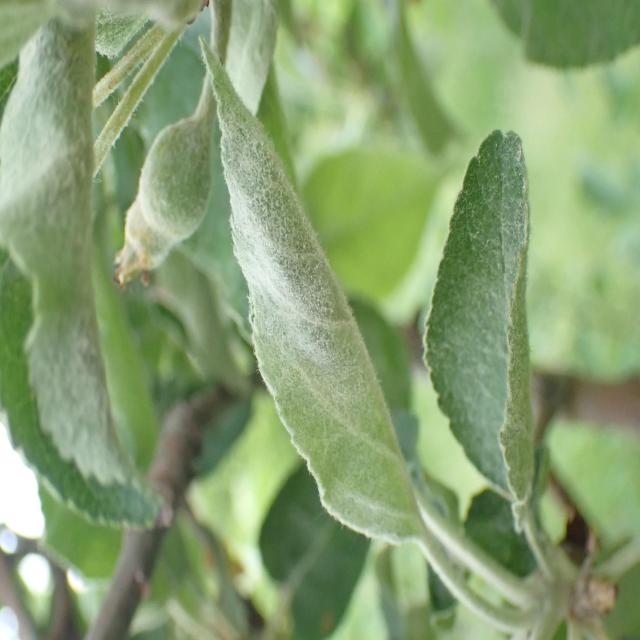Powdery_mildew: (197, 44, 432, 570), (0, 0, 179, 563), (423, 117, 537, 549), (191, 0, 286, 143)
